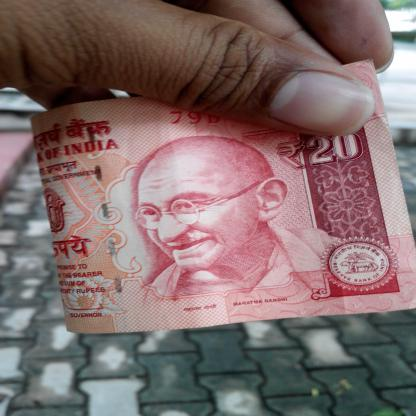Old20Front: (31, 91, 411, 318)
